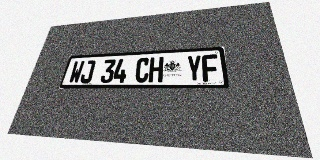3: (100, 59, 116, 83)
4: (112, 59, 129, 83)
C: (134, 57, 150, 83)
F: (202, 54, 219, 82)
H: (148, 57, 164, 82)
J: (79, 60, 96, 83)
W: (68, 61, 85, 83)
Y: (186, 55, 202, 82)
